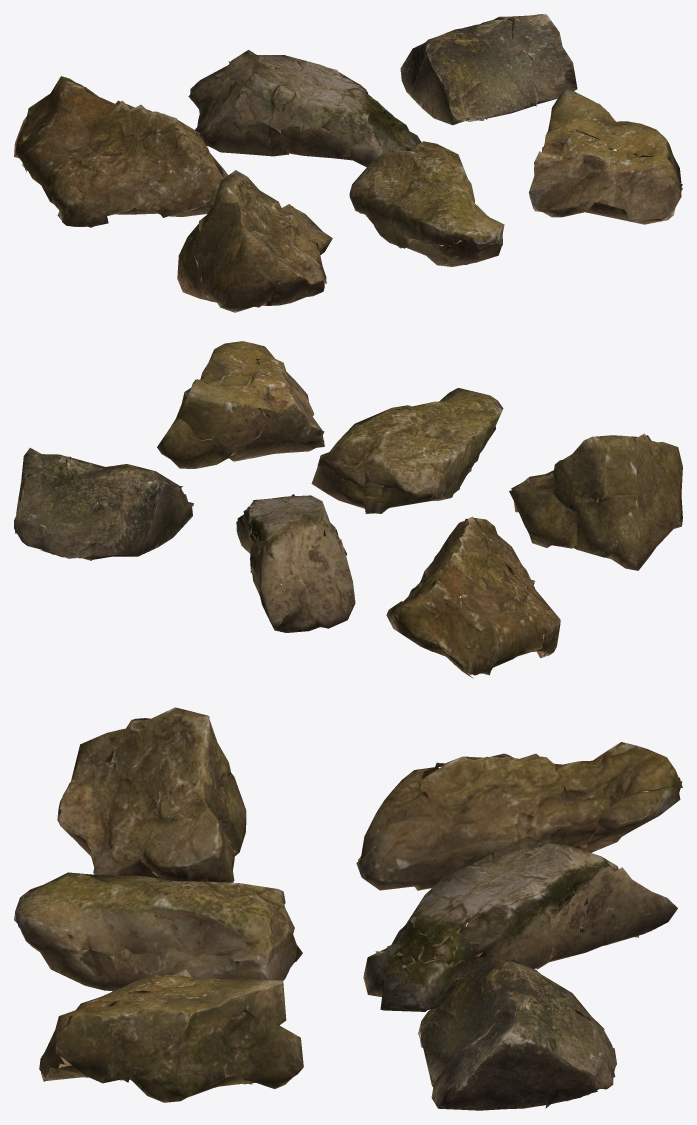
File: rock_moss_set_01_lod0.gltf
3 views of the same model, one above another, from view 1: azimuth 30°, elevation 25°; view 2: azimuth 150°, elevation 25°; view 3: azimuth 270°, elevation 25° (orthographic). The views are drawn at different scales.
Parts seen in each view (by area): view 1: rock_moss_set_01_lod0; view 2: rock_moss_set_01_lod0; view 3: rock_moss_set_01_lod0.
Boxes of the visible parts, <box> form: rock_moss_set_01_lod0: <box>14,14,682,312</box>; rock_moss_set_01_lod0: <box>14,341,682,678</box>; rock_moss_set_01_lod0: <box>14,707,682,1110</box>.
Bounding box in the file's own units: 8.04 × 1.78 × 6.95.
1 material, 1 textured.
